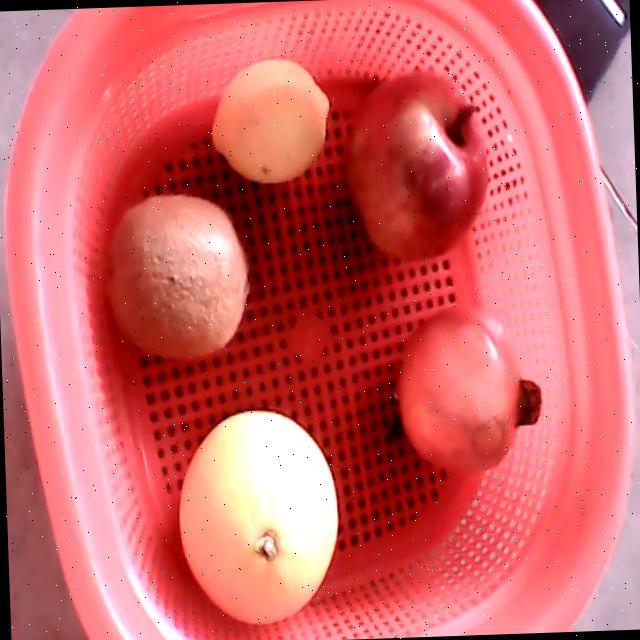apple: (343, 67, 489, 262)
kiwi: (101, 192, 248, 362)
lemon: (211, 57, 329, 184)
orange: (177, 410, 339, 626)
pomegranate: (395, 301, 541, 476)
